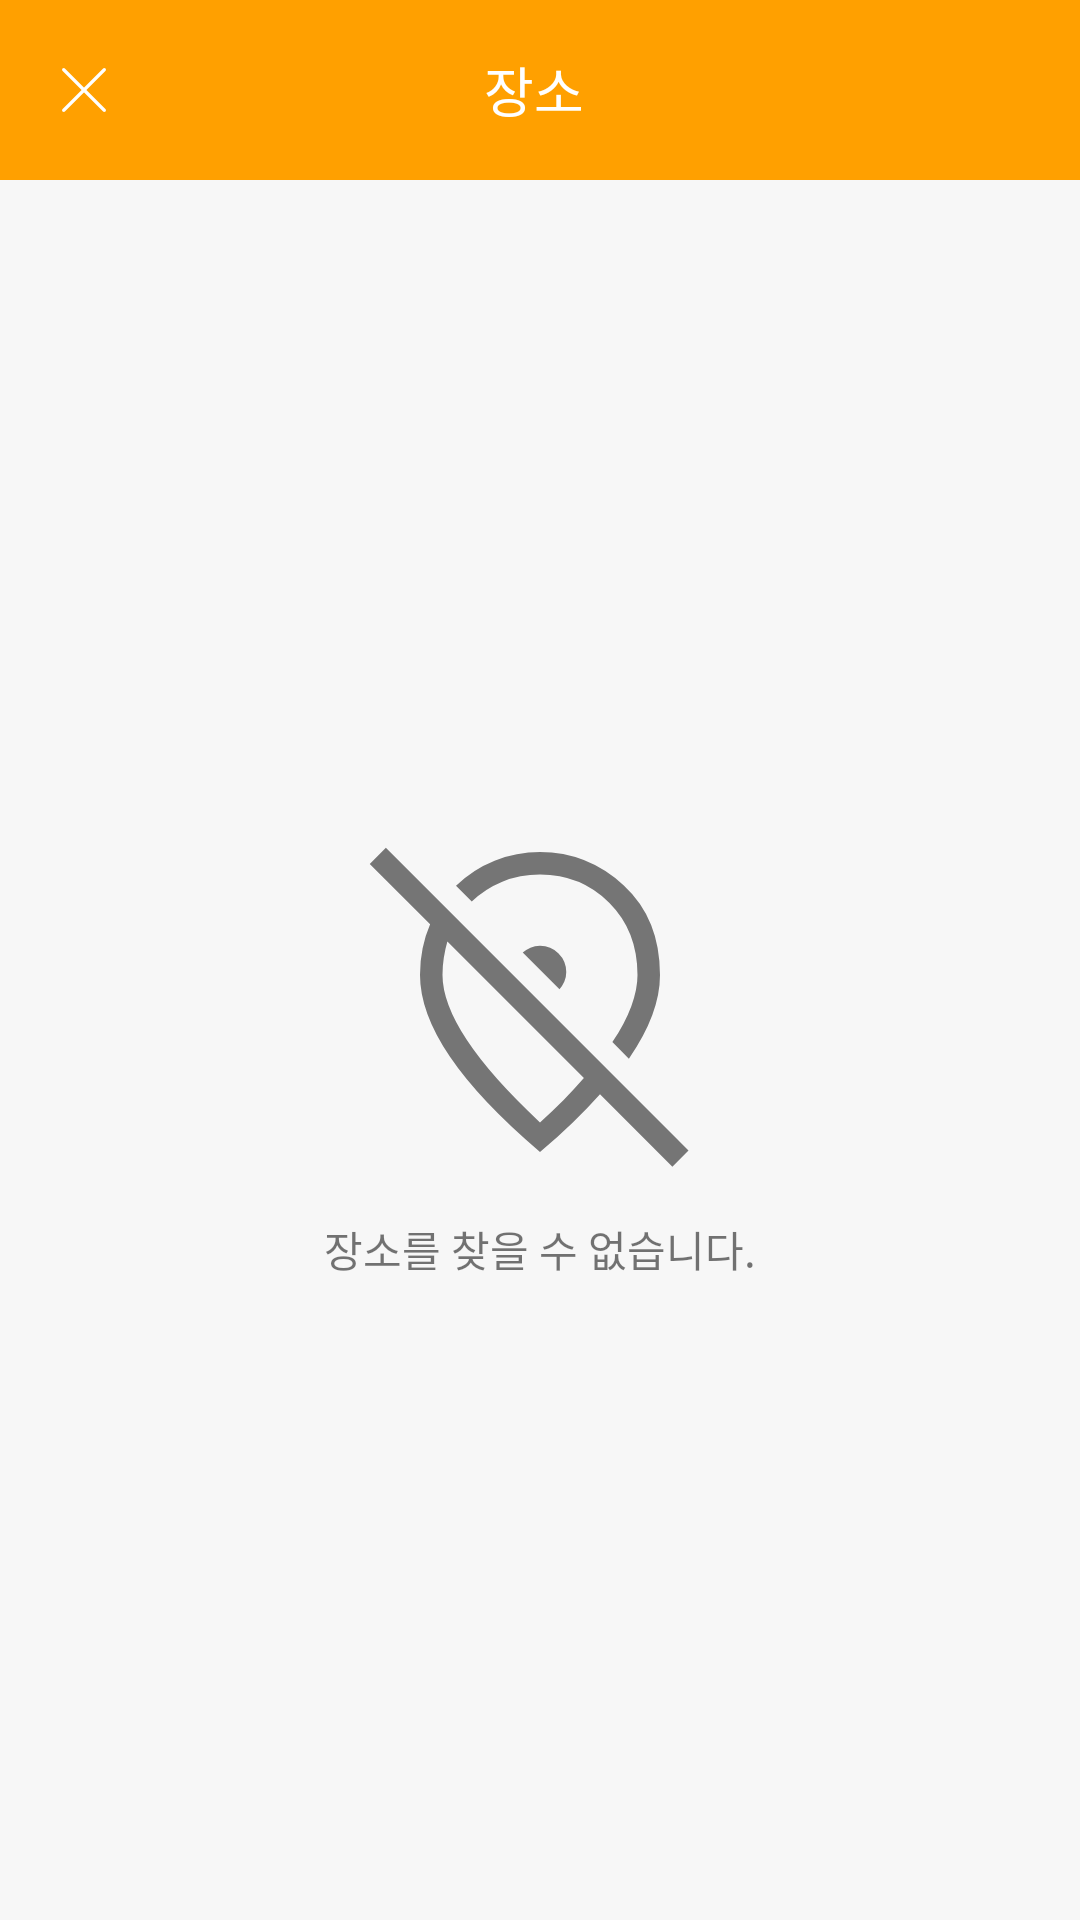

Icons on this 1080*1920 Android screen, each with its box as box(x1, y1, x2, y2):
close: box(62, 68, 106, 112)
